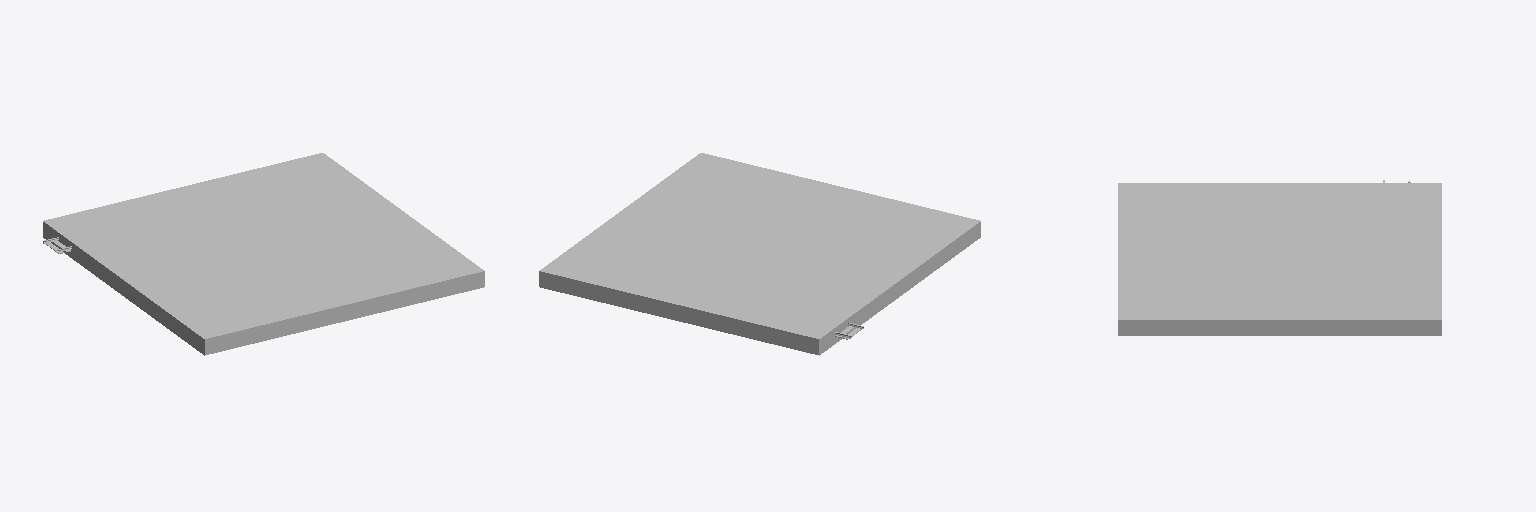
Rendered from single_rail.obj.
The picture shows the model from 3 angles: view 1: azimuth 30°, elevation 25°; view 2: azimuth 150°, elevation 25°; view 3: azimuth 270°, elevation 25°; orthographic projection.
Parts seen in each view (by area): view 1: Cube.001_Cube.003; view 2: Cube.001_Cube.003; view 3: Cube.001_Cube.003.
Part boxes in pixels (bbox=[...]): Cube.001_Cube.003: bbox=[43, 153, 484, 355]; Cube.001_Cube.003: bbox=[539, 153, 980, 355]; Cube.001_Cube.003: bbox=[1118, 183, 1441, 335].
Size of the model in its own units: 19 by 1 by 18.